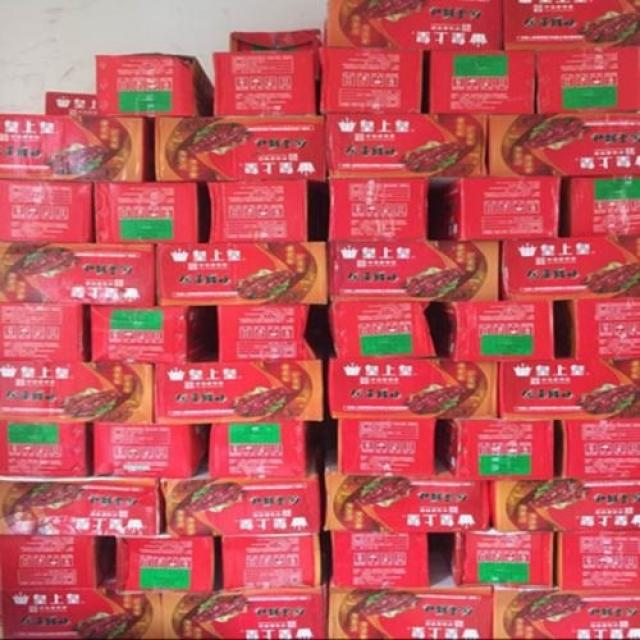box: (328, 545, 494, 640), (323, 445, 492, 531), (161, 556, 330, 639), (163, 452, 321, 536), (154, 351, 323, 425), (326, 349, 499, 420), (155, 114, 328, 182), (0, 567, 163, 639), (325, 111, 488, 179), (156, 242, 328, 306), (0, 113, 155, 183), (328, 239, 499, 302), (0, 476, 166, 538), (0, 242, 156, 306), (499, 352, 640, 421), (0, 361, 154, 424), (488, 113, 640, 175), (500, 236, 640, 301), (490, 476, 640, 532), (436, 175, 561, 241), (492, 586, 640, 640), (428, 300, 556, 361), (90, 305, 215, 365), (95, 52, 212, 116), (440, 525, 556, 588), (436, 419, 554, 480), (317, 47, 424, 114), (536, 46, 640, 113), (212, 50, 317, 116), (503, 0, 640, 50), (429, 50, 536, 114), (95, 179, 198, 243), (206, 178, 308, 242), (209, 420, 319, 479), (329, 177, 429, 241), (93, 424, 209, 479), (114, 530, 215, 593), (328, 301, 438, 358), (221, 532, 323, 593), (0, 538, 116, 590), (0, 180, 93, 243), (330, 531, 430, 589), (218, 305, 319, 361), (337, 420, 436, 477), (0, 303, 91, 362), (554, 296, 640, 358), (554, 419, 640, 479), (554, 530, 640, 590), (558, 177, 640, 237), (0, 424, 92, 476), (229, 28, 321, 51), (45, 93, 100, 114)
